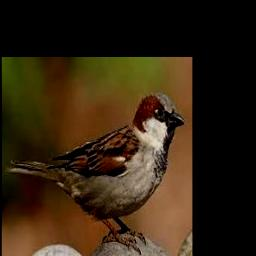Sparrow: (4, 93, 184, 254)
